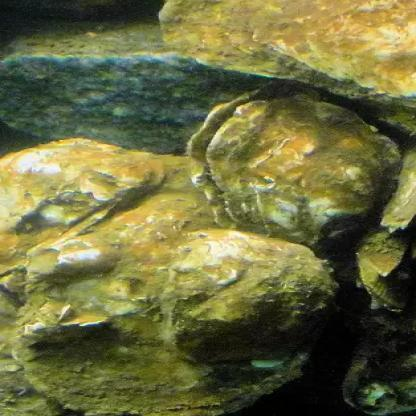Oyster- Indeterminate: (359, 262, 413, 313)
Oyster-Closed: (13, 156, 334, 416), (159, 0, 416, 105), (165, 230, 340, 364), (0, 138, 168, 276), (359, 230, 411, 276)
Oyster-Open: (187, 89, 399, 281)
